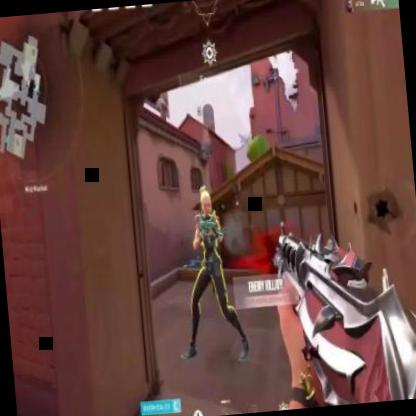enemy: (164, 178, 252, 370)
enemy_head: (198, 186, 215, 218)
